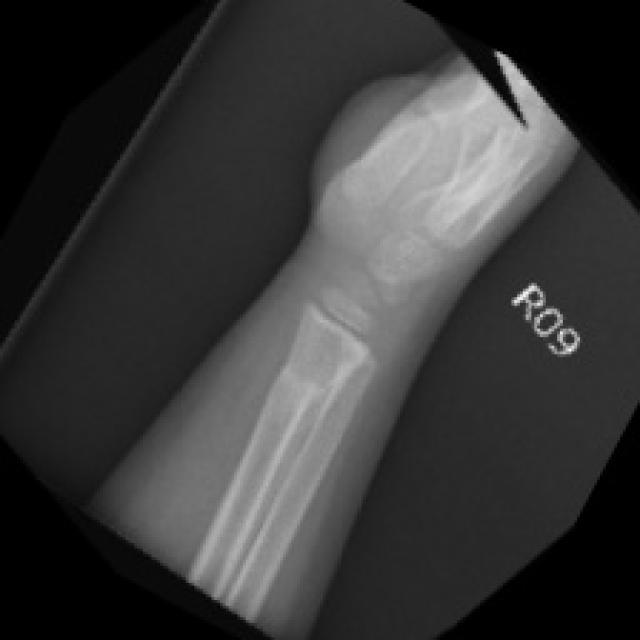fracture: (263, 334, 360, 448)
